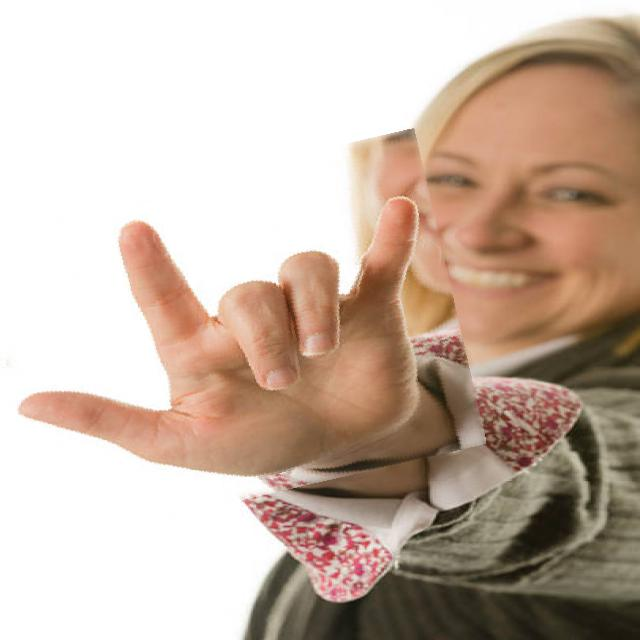I Love You: (0, 151, 471, 522)
